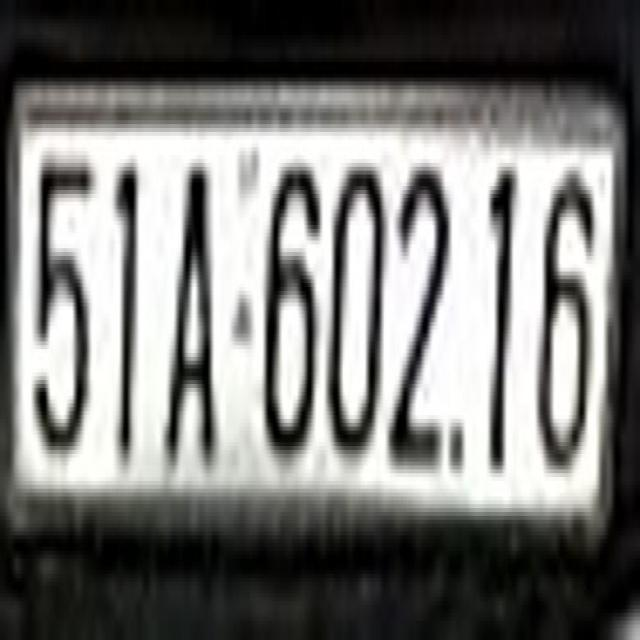0: (325, 108, 385, 500)
1: (478, 120, 524, 516), (104, 140, 150, 473)
2: (389, 112, 452, 512)
5: (34, 151, 98, 458)
6: (540, 97, 596, 500), (260, 124, 320, 489)
A: (164, 120, 218, 493)
